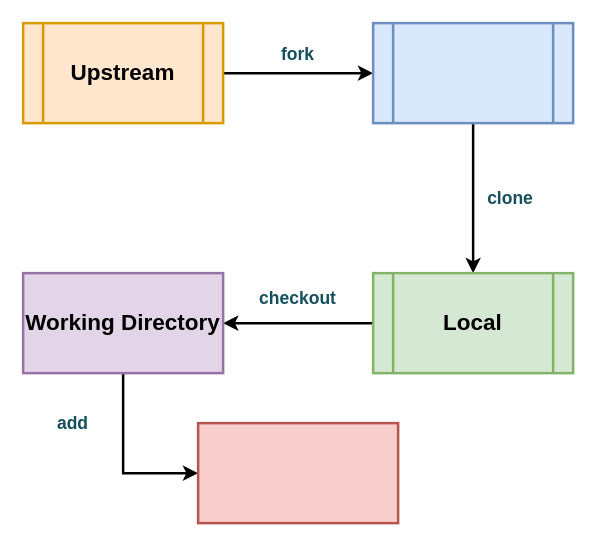
The diagram is 595 pixels wide and 545 high, and some of its shapes have lost their labels. Here are the shapes that lost their labels. From the top down, the centre of each, then its label:
At point 472,72: "Origin".
At point 297,472: "Staging Area".
